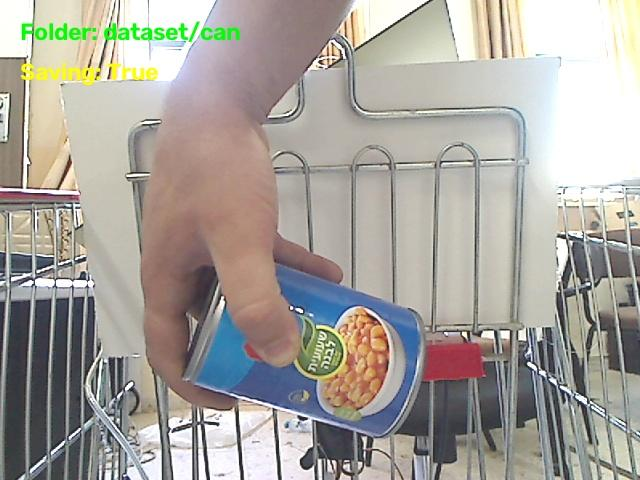can: (185, 265, 424, 436)
